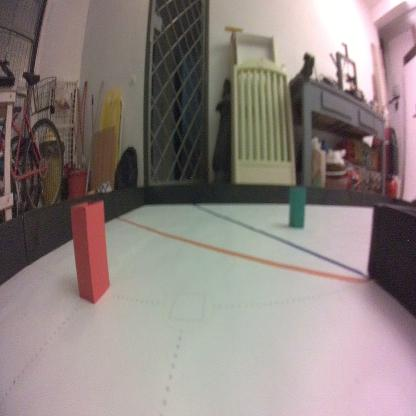green: (288, 181, 306, 228)
red: (70, 196, 110, 306)
